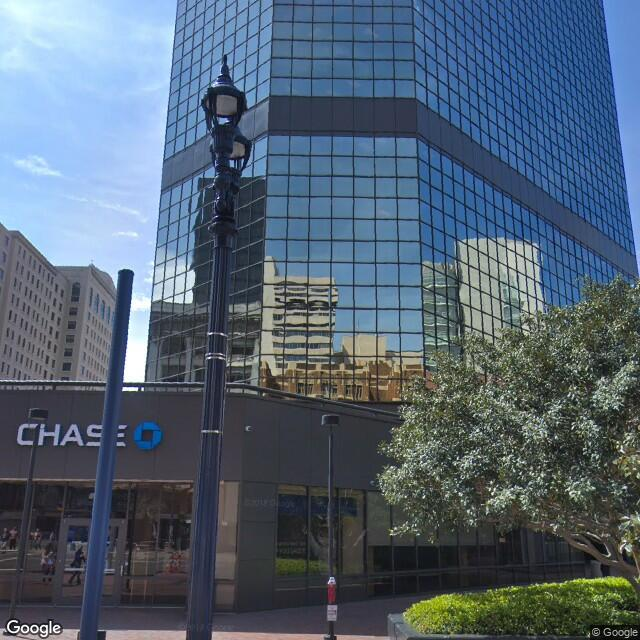light: (202, 80, 240, 148), (232, 136, 251, 177)
